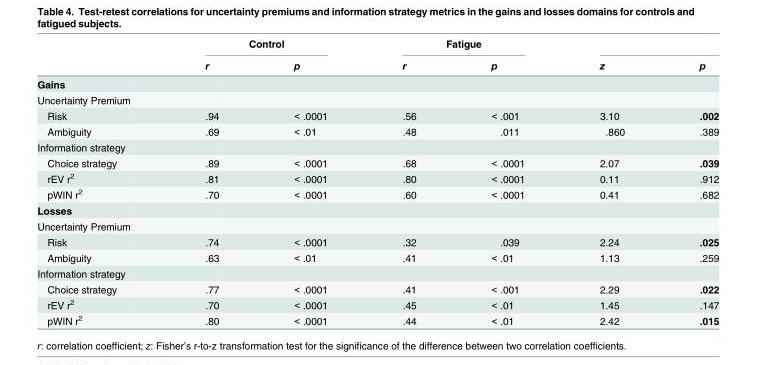table: (36, 37, 718, 326)
table column: (36, 37, 167, 326), (255, 37, 364, 326), (453, 37, 561, 326), (561, 37, 661, 326), (364, 37, 453, 326), (167, 37, 255, 326), (661, 37, 718, 326)
table column header: (36, 37, 718, 74)
table projected row header: (36, 74, 718, 91), (36, 91, 718, 107), (36, 217, 718, 233), (36, 139, 718, 154), (36, 202, 718, 217), (36, 265, 718, 280)
table row: (36, 53, 718, 74), (36, 74, 718, 91), (36, 185, 718, 202), (36, 37, 718, 53), (36, 91, 718, 107), (36, 107, 718, 123), (36, 123, 718, 139), (36, 169, 718, 185), (36, 217, 718, 233), (36, 233, 718, 249), (36, 249, 718, 265), (36, 280, 718, 296), (36, 139, 718, 154), (36, 154, 718, 169), (36, 202, 718, 217), (36, 265, 718, 280), (36, 296, 718, 311), (36, 311, 718, 326)
table spanning cell: (561, 37, 661, 74), (167, 37, 364, 53), (364, 37, 561, 53), (661, 37, 718, 74)
